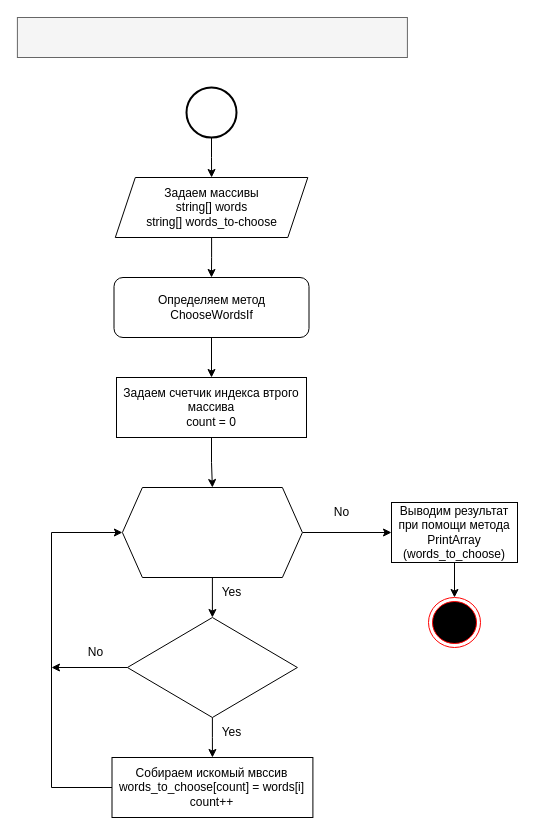
Image size: 536x835. Some labels were removed from this diagram. Each missing label, with the centre of its shape:
"Блок-схема алгоритма решения задачи" goes at (x=211, y=37).
"Прописываем условие if (words[i].length <= 3)" goes at (x=211, y=667).
"Прописываем цикл for (int = i, i < words.length, i++)" goes at (x=211, y=532).
